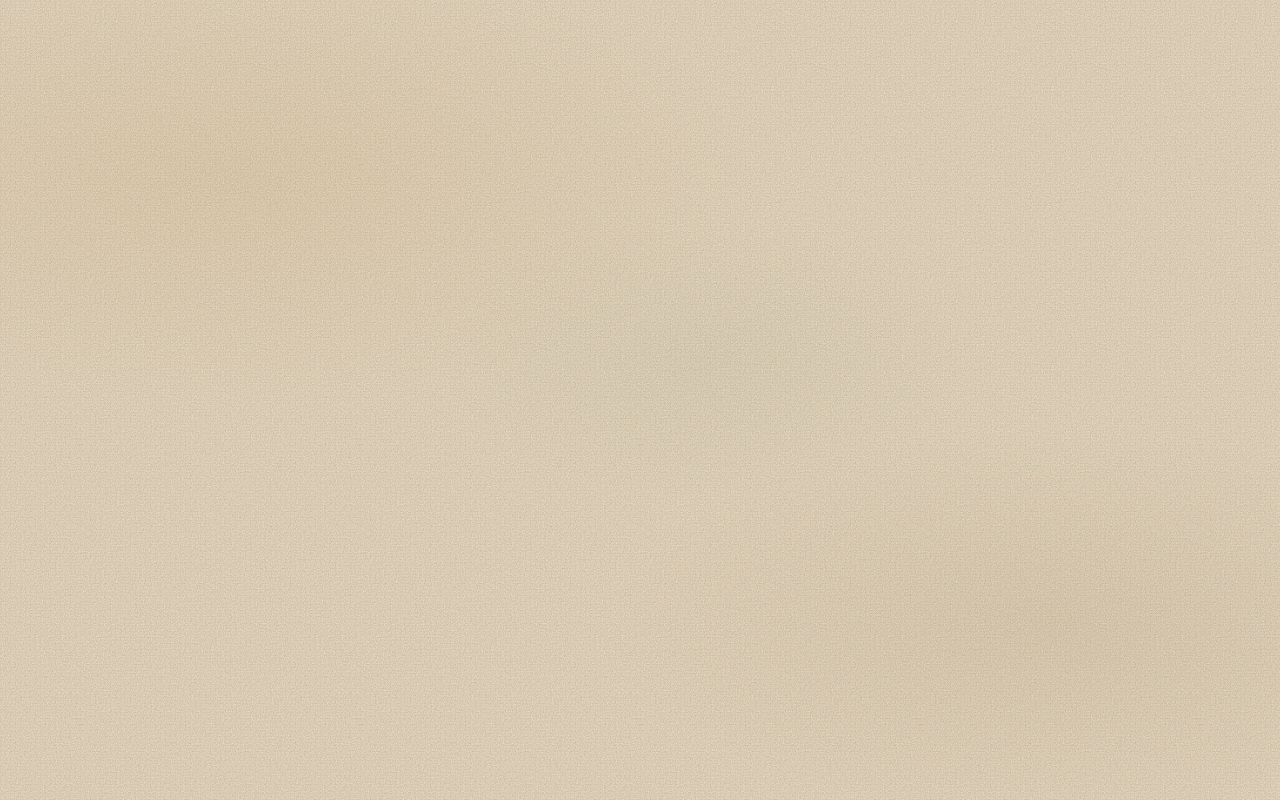
it: CommandPalette › navigation execution › clicking a command closes the palette
Press k
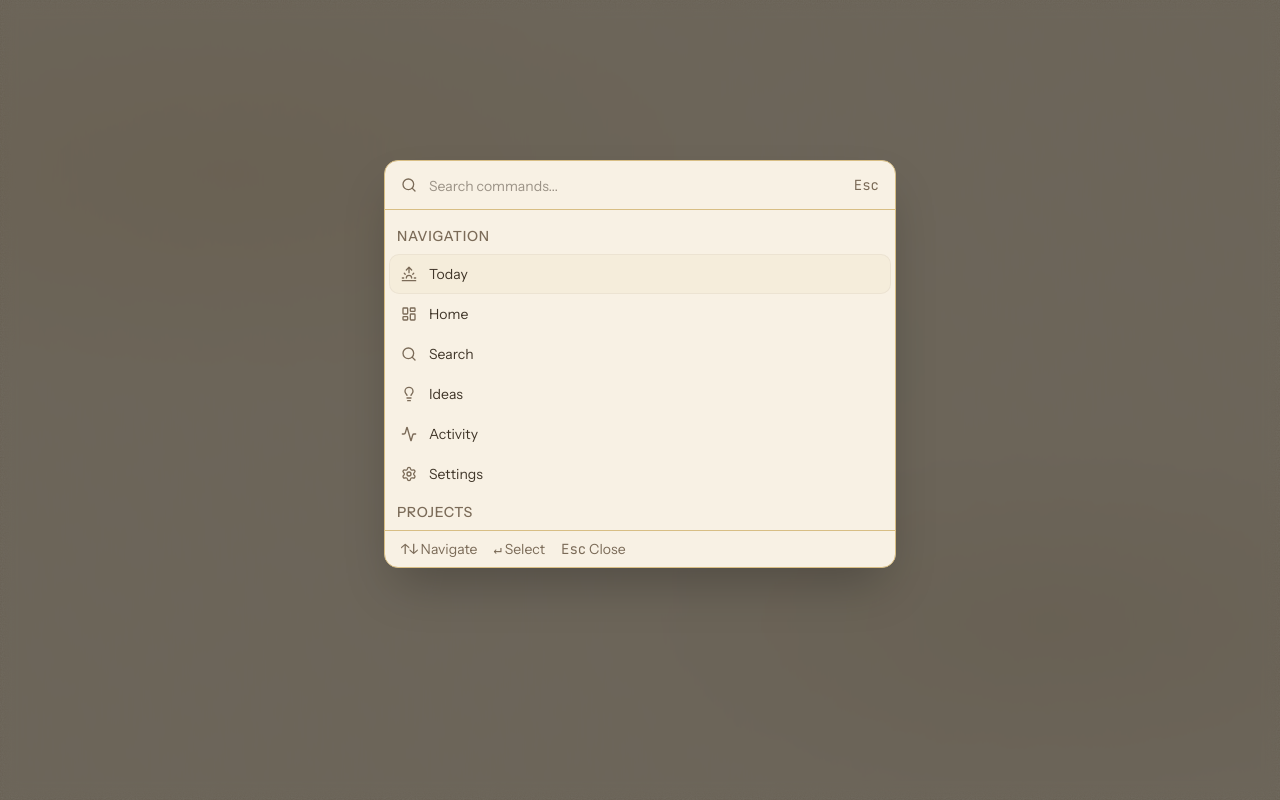
Click the option "Home" at (435, 314), box [401, 305, 468, 323]
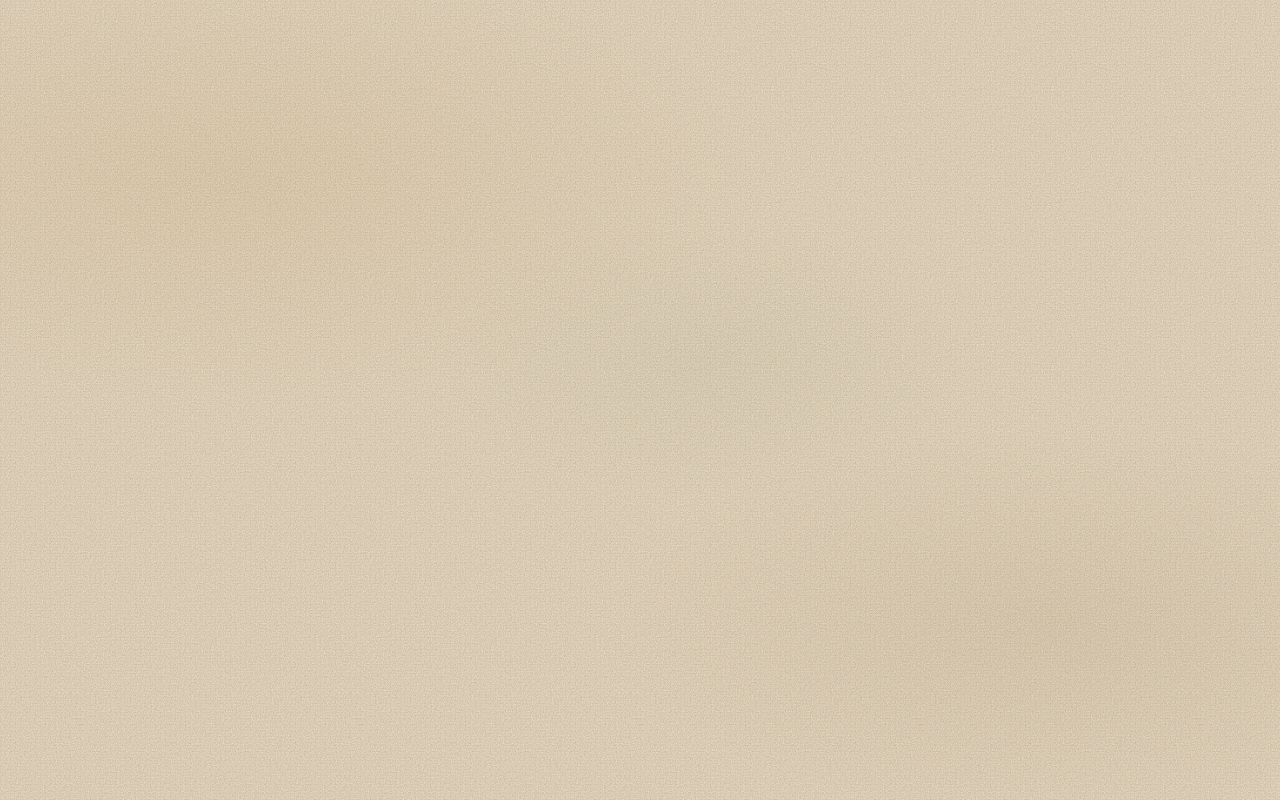
Check: the element with test id "command-palette-overlay" is gone
